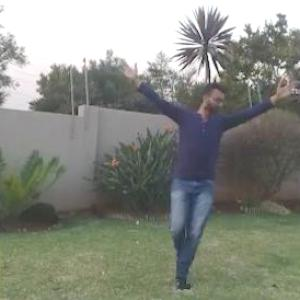takeoff: (71, 39, 299, 292)
